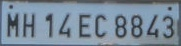character: (6, 12, 19, 38), (22, 12, 35, 37), (78, 13, 91, 38), (93, 13, 106, 38), (58, 12, 70, 38), (130, 14, 143, 37), (114, 14, 126, 37), (146, 14, 158, 37), (162, 15, 174, 38), (44, 12, 53, 39)
